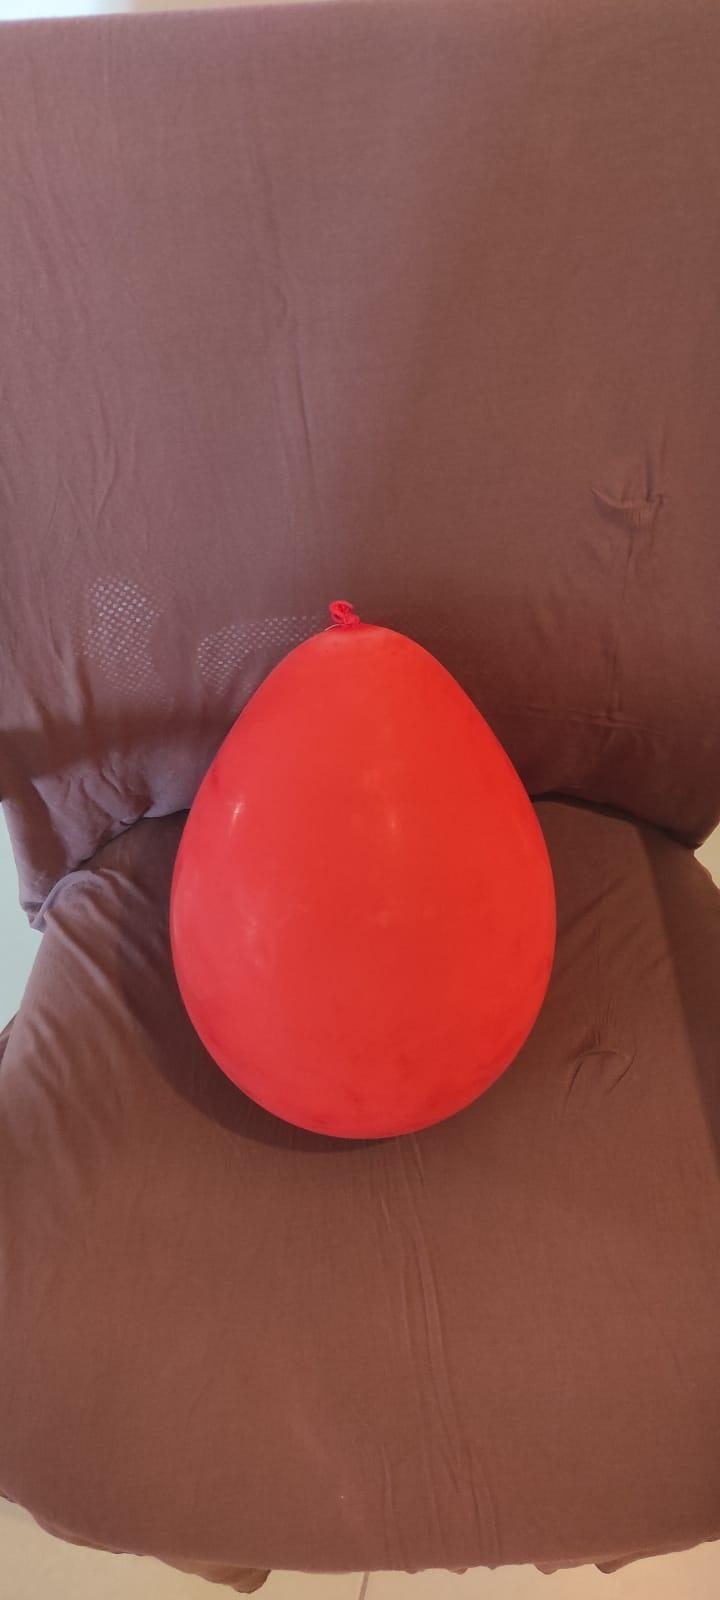red: (161, 591, 566, 1142)
